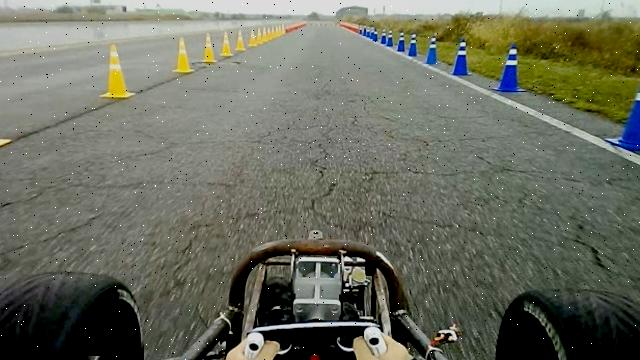blue cone: (605, 62, 640, 152), (493, 43, 527, 92), (450, 37, 472, 76), (425, 33, 440, 65), (408, 32, 418, 57)
yellow cone: (99, 43, 136, 99), (173, 36, 195, 73), (202, 32, 217, 62), (220, 30, 233, 57), (236, 28, 247, 52)
